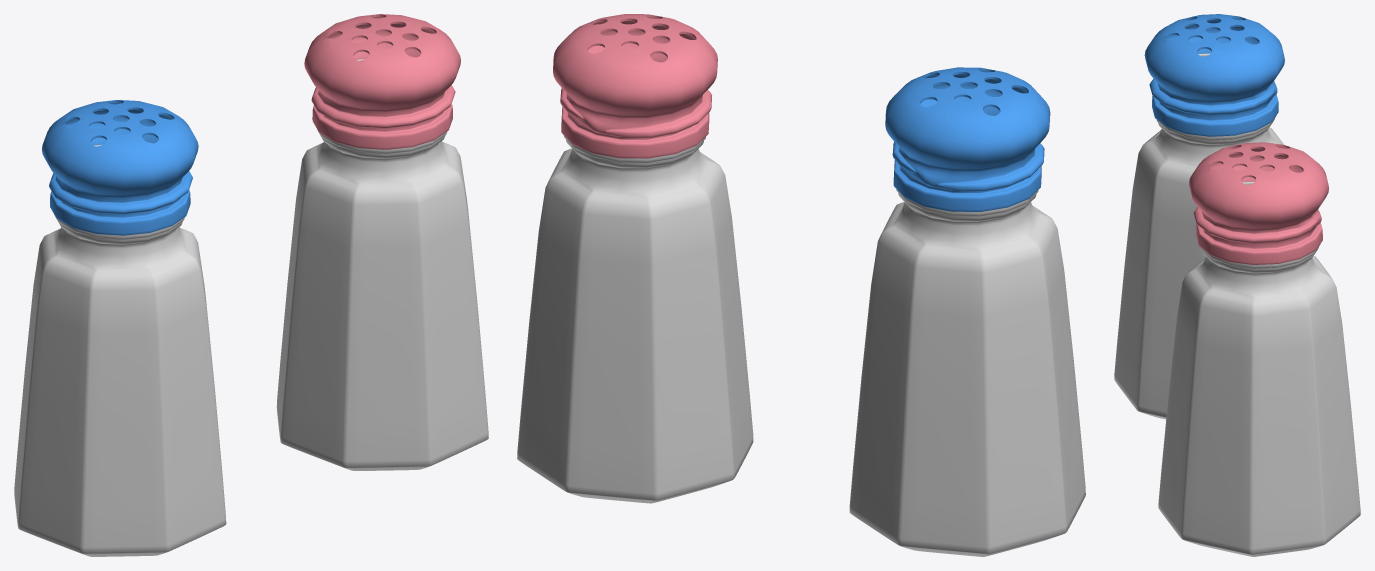
File: salt and pepper shaker.fbx
3 views of the same model, side by side, from view 1: azimuth 30°, elevation 25°; view 2: azimuth 150°, elevation 25°; view 3: azimuth 270°, elevation 25° (orthographic). The views are drawn at different scales.
Visible parts, largest first — view 1: Pepper, Salt, Lid.001, Lid; view 2: Salt, Pepper, Lid, Lid.001; view 3: Pepper, Salt, Lid, Lid.001.
Part boxes in pixels (<box>): Pepper: <box>276,58,488,470</box>; Salt: <box>14,144,226,556</box>; Lid.001: <box>304,14,460,149</box>; Lid: <box>42,100,198,235</box>; Salt: <box>849,115,1085,556</box>; Pepper: <box>517,62,753,503</box>; Lid: <box>885,67,1050,211</box>; Lid.001: <box>553,14,717,158</box>; Pepper: <box>1158,181,1360,556</box>; Salt: <box>1114,53,1283,419</box>; Lid: <box>1144,14,1284,136</box>; Lid.001: <box>1189,142,1328,264</box>.
Bounding box in the file's own units: 17.28 × 14 × 8.49.
